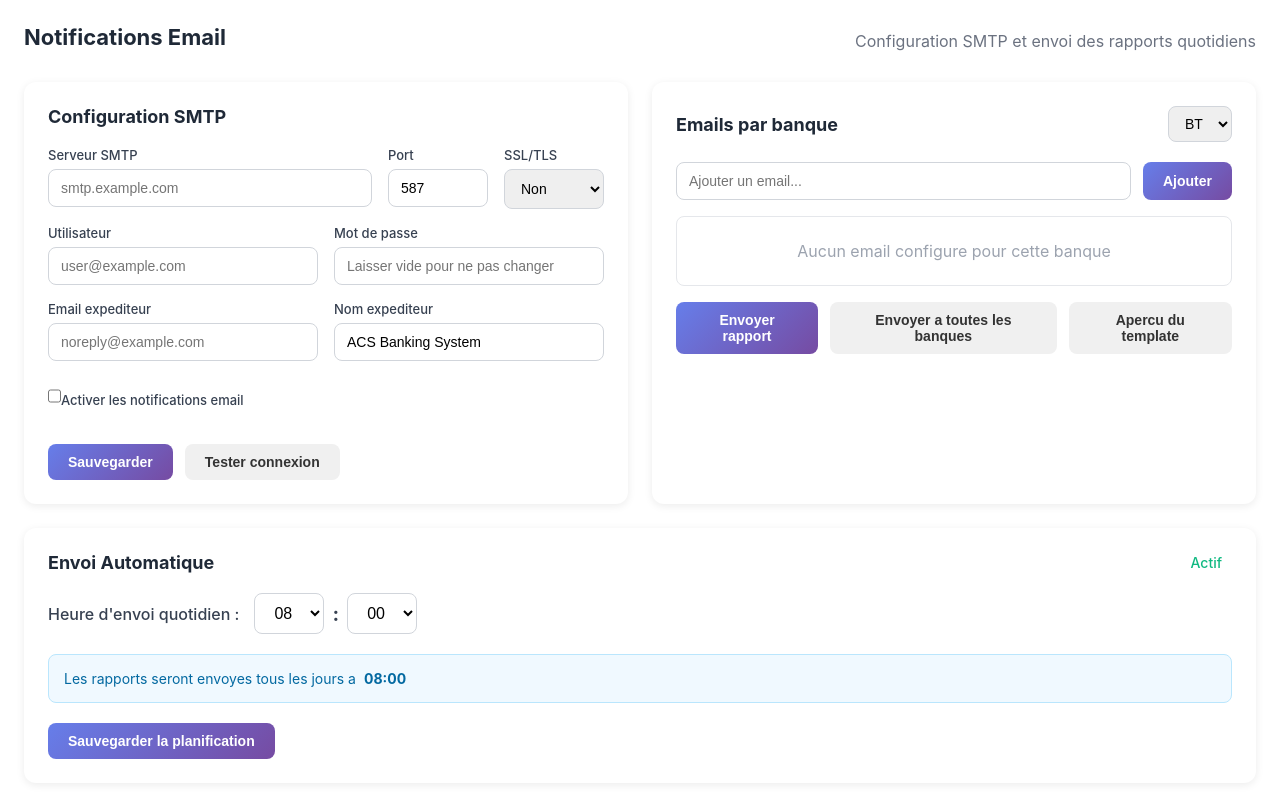
Test: Notifications › opens email preview modal
This screenshot has width=1280, height=800.
Check: the heading "Notifications Email" is shown, box [24,24,226,50]
Click the button "Apercu du template" at coordinates (1150, 328), box [1069,302,1232,354]
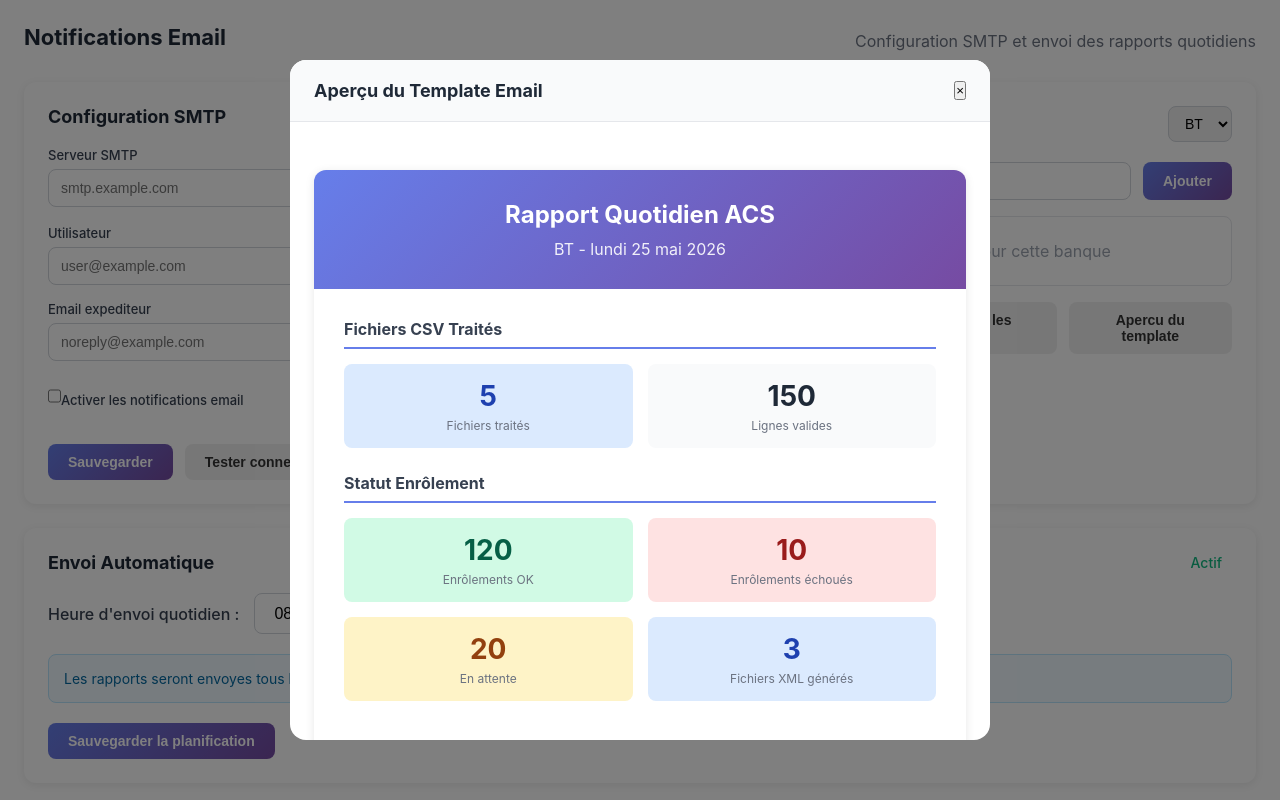
Check: the heading "Aperçu du Template Email" is shown, box [314,80,543,101]
